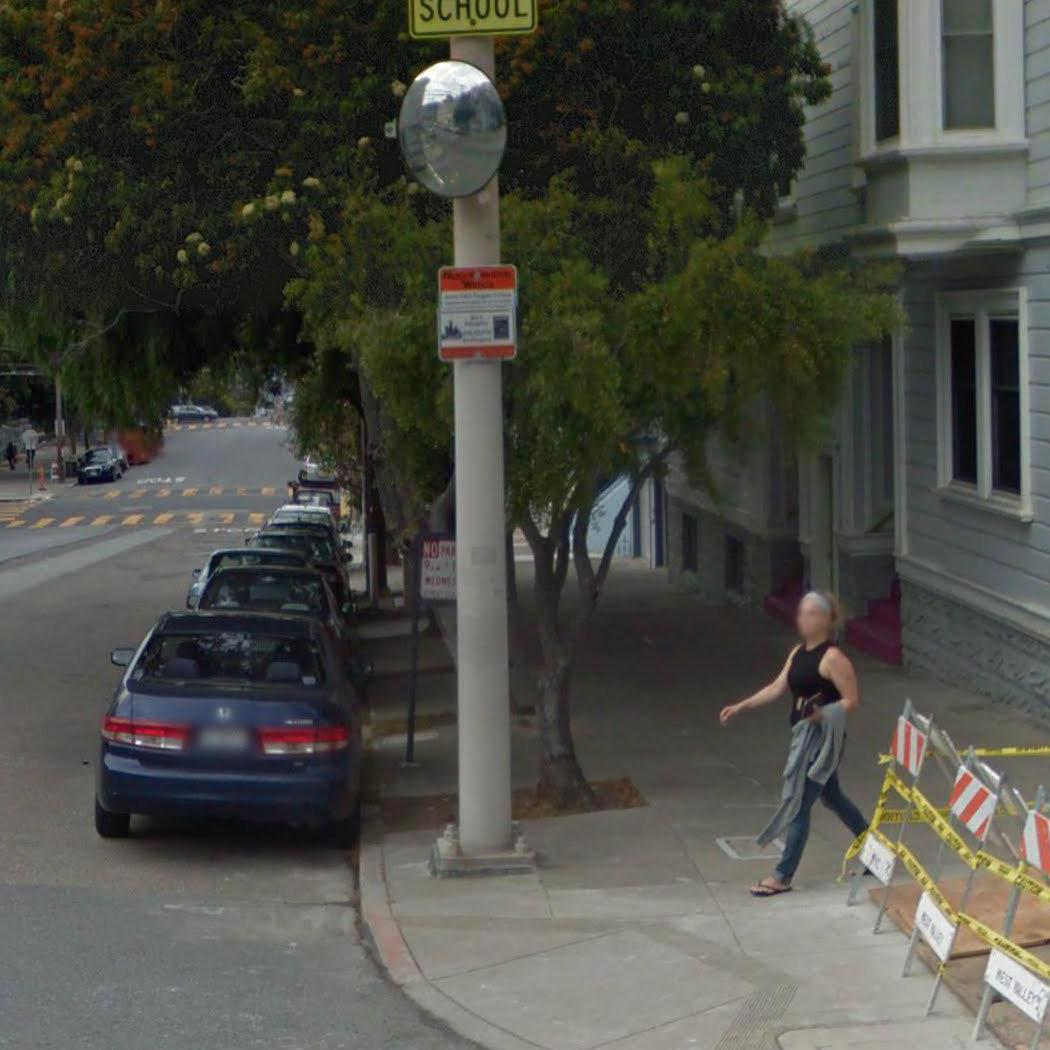No Parking: (416, 535, 458, 602)
